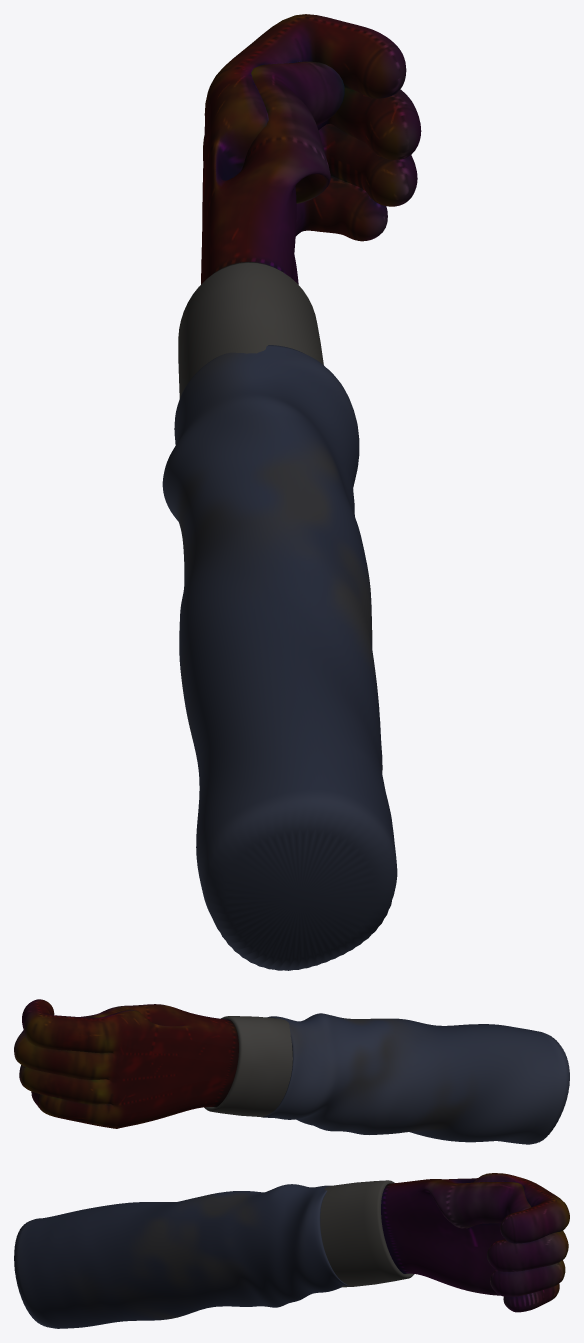
The model's file is fp_hand_L_stick.glb.
The picture shows the model from 3 angles, top to bottom: view 1: azimuth 30°, elevation 25°; view 2: azimuth 150°, elevation 25°; view 3: azimuth 270°, elevation 25°; orthographic projection. The views are drawn at different scales.
Visible parts, largest first — view 1: fp_hand_L_stick; view 2: fp_hand_L_stick; view 3: fp_hand_L_stick.
Part boxes in pixels (x1,y1,x2,y2): fp_hand_L_stick: (162,14,421,970); fp_hand_L_stick: (14,999,569,1144); fp_hand_L_stick: (14,1173,569,1328).
Size of the model in its own units: 0.2637 by 0.1885 by 0.3816.
Materials: 3 (1 with a texture image).
